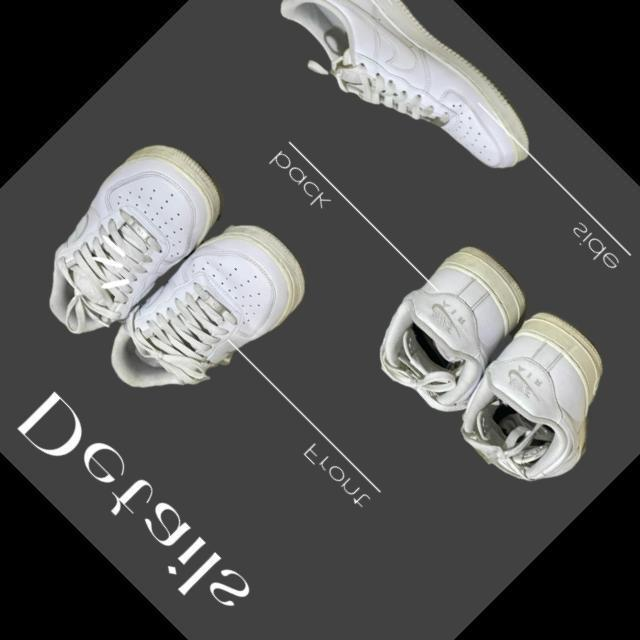nike original air force: (261, 0, 545, 214), (89, 194, 323, 428), (11, 122, 244, 356), (432, 300, 640, 514), (358, 236, 556, 433)
